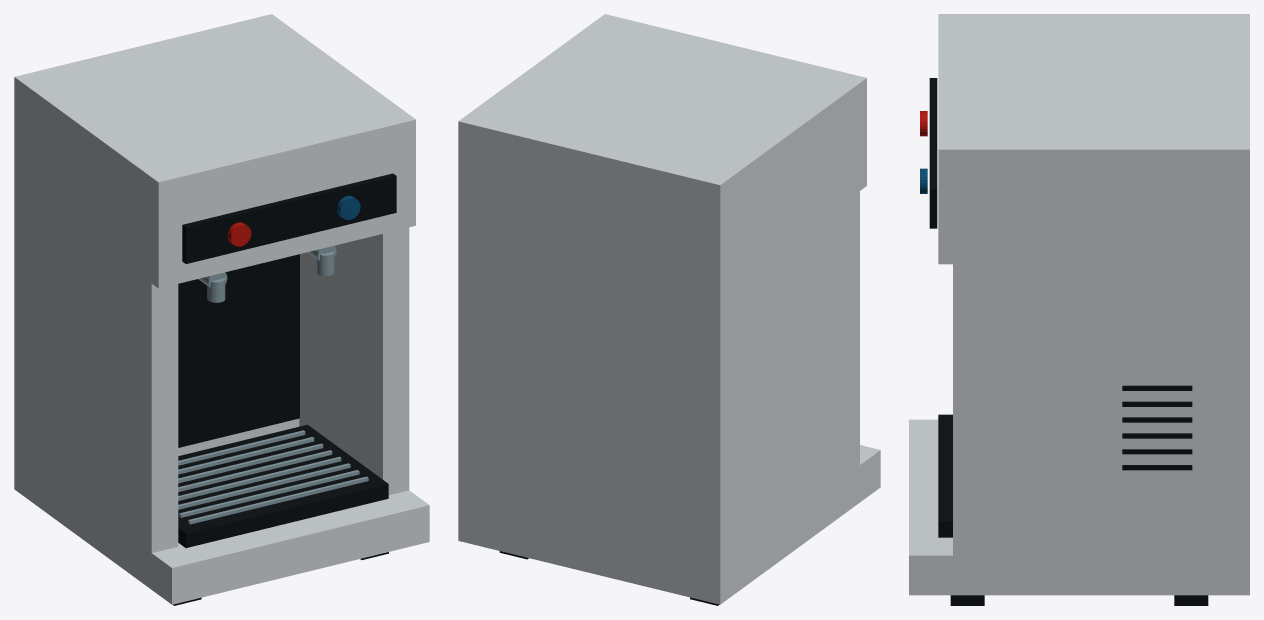
File: water_dispenser_countertop.dae
3 views of the same model, side by side, from view 1: azimuth 30°, elevation 25°; view 2: azimuth 150°, elevation 25°; view 3: azimuth 270°, elevation 25° (orthographic). The views are drawn at different scales.
Parts seen in each view (by area): view 1: top, side (×2), base, recess_back, back, drip_tray_tray, control_strip, drip_tray_bar_7, drip_tray_bar_6, drip_tray_bar_5, drip_tray_bar_4, drip_tray_bar_3 (+3 smaller); view 2: back, top, side, base; view 3: side, top, back, base, drip_tray_tray, control_strip.
Boxes of the visible parts, left/top/right/bottom form: top: left=14, top=14, right=415, bottom=288; side (×2): left=21, top=106, right=409, bottom=552; base: left=14, top=453, right=429, bottom=604; recess_back: left=178, top=254, right=299, bottom=447; back: left=14, top=103, right=299, bottom=491; drip_tray_tray: left=178, top=424, right=388, bottom=547; control_strip: left=182, top=173, right=396, bottom=263; drip_tray_bar_7: left=188, top=476, right=368, bottom=524; drip_tray_bar_6: left=179, top=470, right=359, bottom=517; drip_tray_bar_5: left=178, top=463, right=350, bottom=509; drip_tray_bar_4: left=178, top=456, right=341, bottom=500; drip_tray_bar_3: left=178, top=450, right=332, bottom=491; back: left=458, top=146, right=775, bottom=567; top: left=458, top=14, right=866, bottom=292; side: left=727, top=154, right=859, bottom=526; base: left=458, top=445, right=880, bottom=604; side: left=953, top=176, right=1235, bottom=555; top: left=938, top=14, right=1249, bottom=264; back: left=1133, top=176, right=1249, bottom=555; base: left=909, top=419, right=1249, bottom=595; drip_tray_tray: left=938, top=414, right=952, bottom=537; control_strip: left=929, top=78, right=937, bottom=228.
Size of the model in its own units: 332 by 350 by 530.
